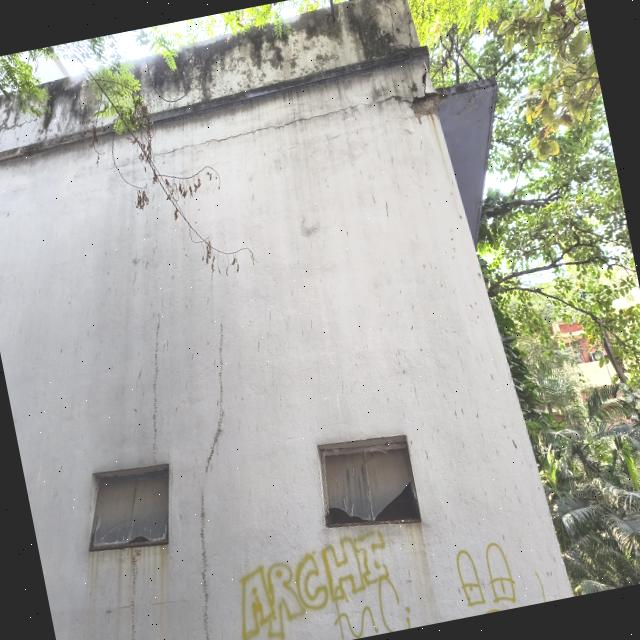crack: (155, 94, 412, 157), (383, 0, 415, 75), (422, 60, 436, 96), (400, 79, 415, 100)
spalling: (411, 93, 447, 121)
stain_mould: (0, 0, 431, 170)
